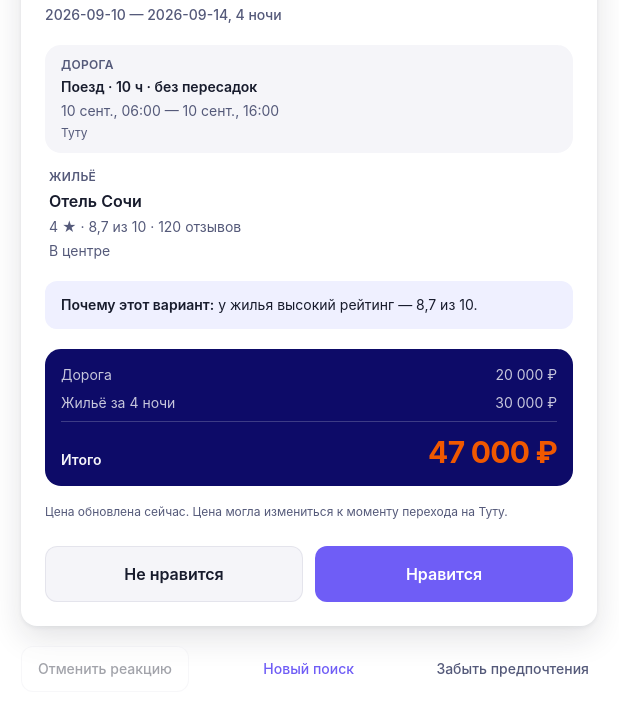
swipe feed › replaces the requested snapshot when a destination has multiple transports
The image size is (619, 709).
(page scrolled)
Expected: the text "47 000 ₽" is shown, [428,434,557,470]
What coordinates should you click on to do the following:
click the button "Нравится"
I would click on:
 (444, 574)
Its box is [315,546,573,602].
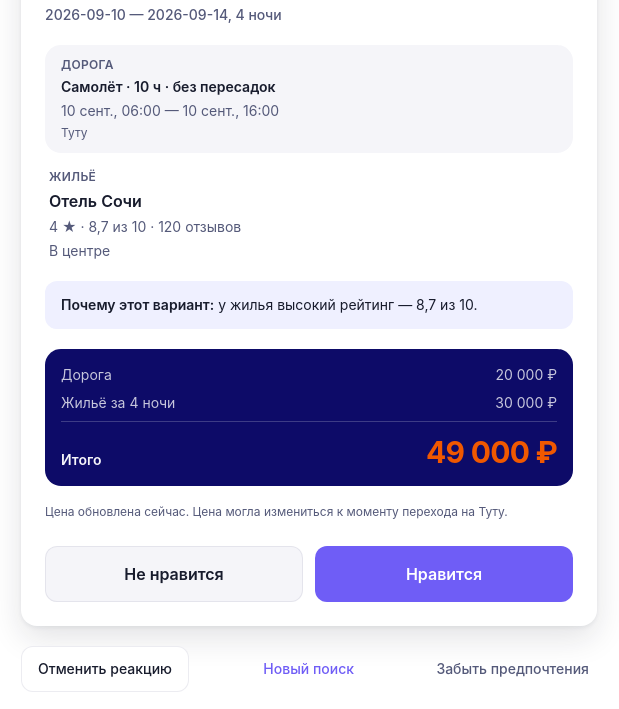
Now the text "49 000 ₽" is shown, box [426,434,557,470]
